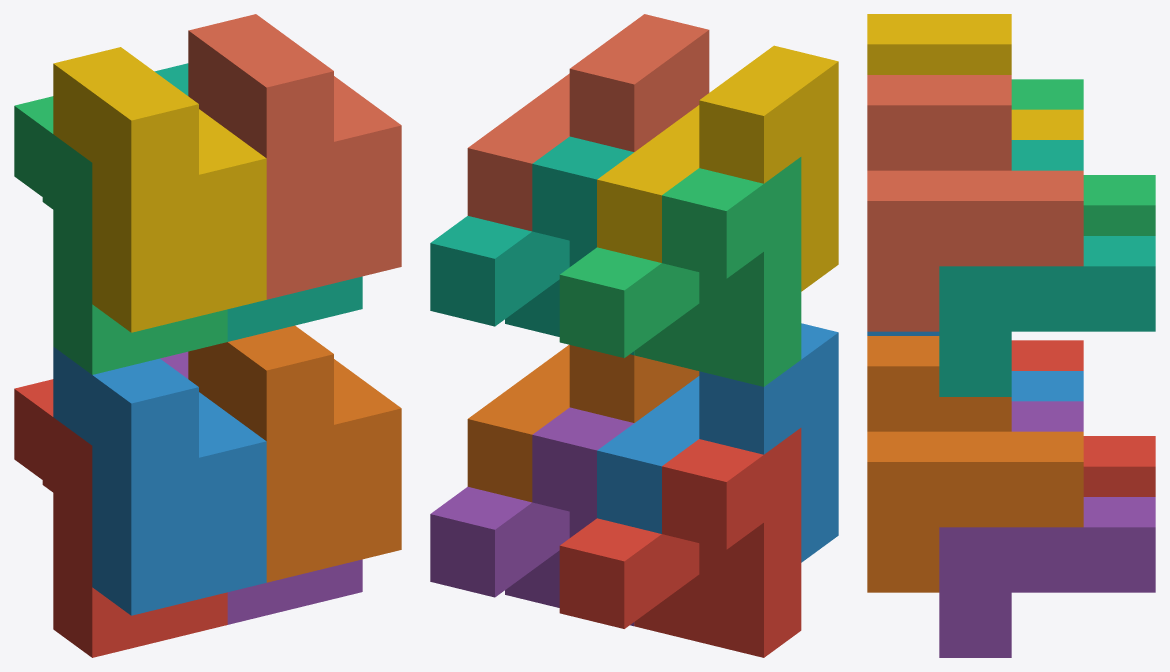
File: tiling.obj
3 views of the same model, side by side, from view 1: azimuth 30°, elevation 25°; view 2: azimuth 150°, elevation 25°; view 3: azimuth 270°, elevation 25° (orthographic). The views are drawn at different scales.
Visible parts, largest first — view 1: copy_1_domain_4, copy_1_domain_2, copy_1_domain_8, copy_1_domain_6, copy_1_domain_1, copy_1_domain_3, copy_1_domain_7, copy_1_domain_5; view 2: copy_1_domain_1, copy_1_domain_3, copy_1_domain_4, copy_1_domain_2, copy_1_domain_8, copy_1_domain_5, copy_1_domain_7, copy_1_domain_6; view 3: copy_1_domain_8, copy_1_domain_6, copy_1_domain_5, copy_1_domain_7, copy_1_domain_4, copy_1_domain_1, copy_1_domain_3, copy_1_domain_2.
Part boxes in pixels (x1,y1,x2,y2): copy_1_domain_4: (53, 47, 266, 332); copy_1_domain_2: (53, 347, 266, 615); copy_1_domain_8: (188, 14, 401, 299); copy_1_domain_6: (188, 325, 401, 582); copy_1_domain_1: (14, 379, 227, 657); copy_1_domain_3: (14, 96, 227, 374); copy_1_domain_7: (154, 63, 362, 341); copy_1_domain_5: (160, 351, 362, 624); copy_1_domain_1: (559, 428, 801, 657); copy_1_domain_3: (559, 157, 801, 386); copy_1_domain_4: (597, 45, 838, 291); copy_1_domain_2: (597, 323, 838, 562); copy_1_domain_8: (467, 14, 709, 231); copy_1_domain_5: (430, 407, 634, 626); copy_1_domain_7: (430, 136, 634, 355); copy_1_domain_6: (467, 344, 699, 502); copy_1_domain_8: (867, 75, 1083, 331); copy_1_domain_6: (867, 336, 1083, 592); copy_1_domain_5: (939, 401, 1155, 657); copy_1_domain_7: (939, 140, 1155, 396); copy_1_domain_4: (867, 14, 1083, 139); copy_1_domain_1: (1011, 340, 1155, 496); copy_1_domain_3: (1011, 79, 1155, 235); copy_1_domain_2: (867, 331, 1083, 401).
Bounding box in the file's own units: 4 × 8 × 4.
